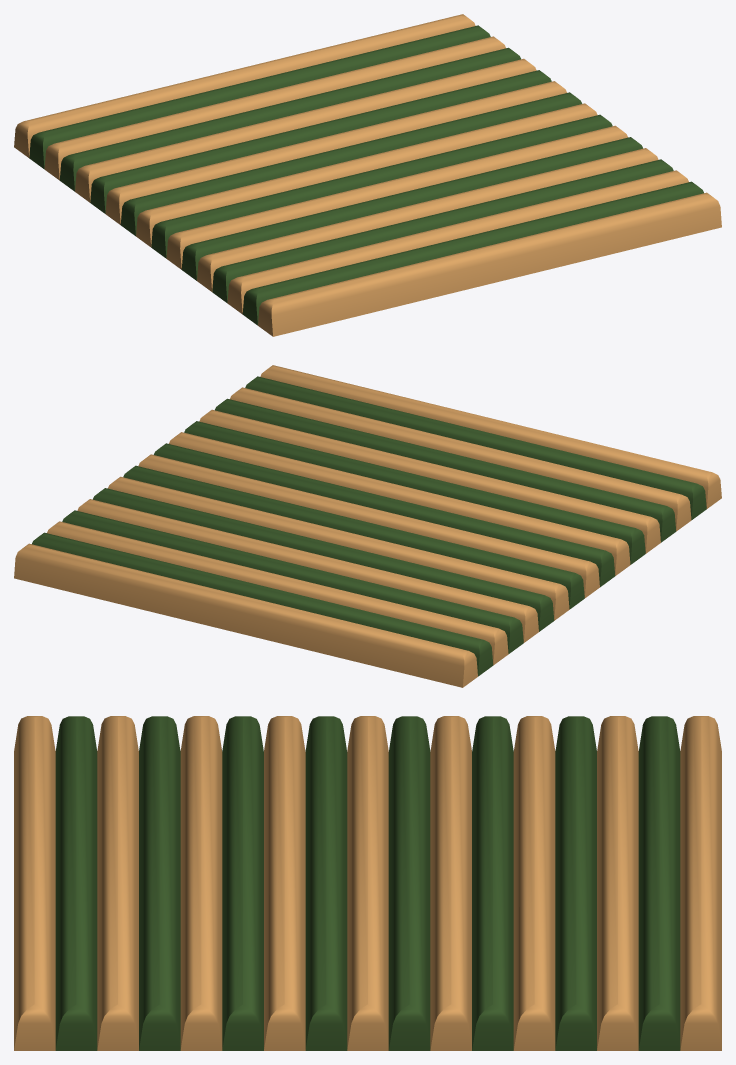
Rendered from AgricultureRaisonnee.fbx.
3 renders of one model, top to bottom at view 1: azimuth 30°, elevation 25°; view 2: azimuth 150°, elevation 25°; view 3: azimuth 270°, elevation 25°, orthographic. The views are drawn at different scales.
Visible parts, largest first — view 1: AgricultureRaisonnee; view 2: AgricultureRaisonnee; view 3: AgricultureRaisonnee.
Boxes of the visible parts, x1,y1,x2,y2 form: AgricultureRaisonnee: (14,14,721,336); AgricultureRaisonnee: (14,365,721,687); AgricultureRaisonnee: (14,716,721,1050).
Bounding box in the file's own units: 1000 × 63.1 × 1000.
